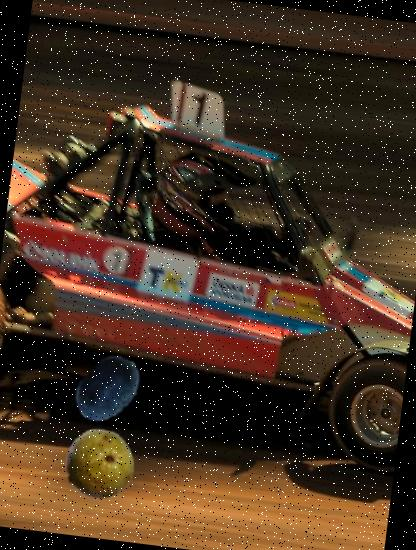Blueberry: (68, 348, 148, 430)
Guava: (58, 424, 139, 505)
